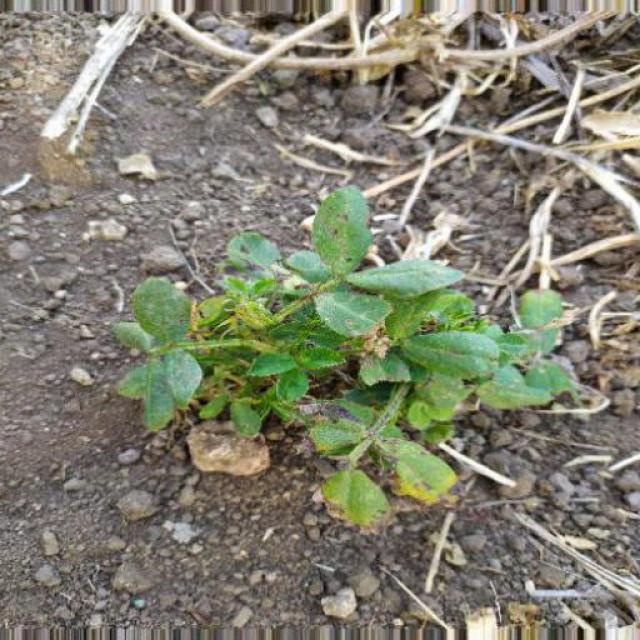weed: (96, 184, 580, 518)
